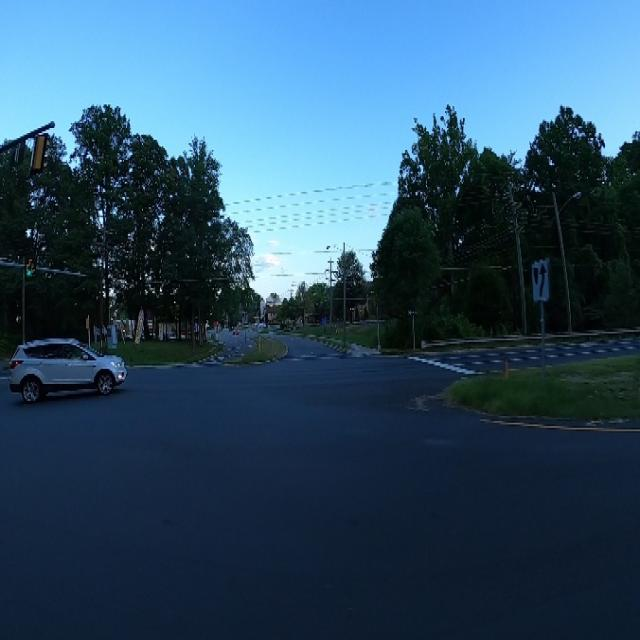cars: (9, 335, 131, 410)
